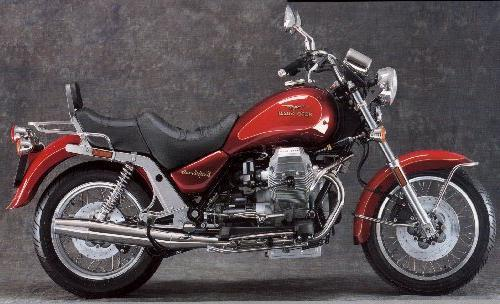motorcycle: (1, 4, 500, 304)
